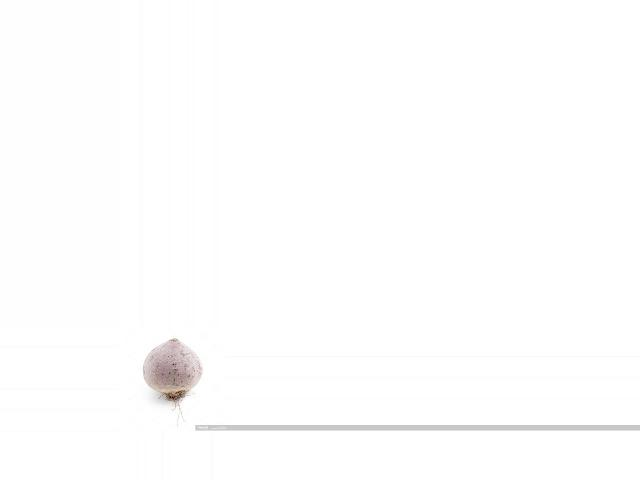beet: (142, 337, 203, 427)
